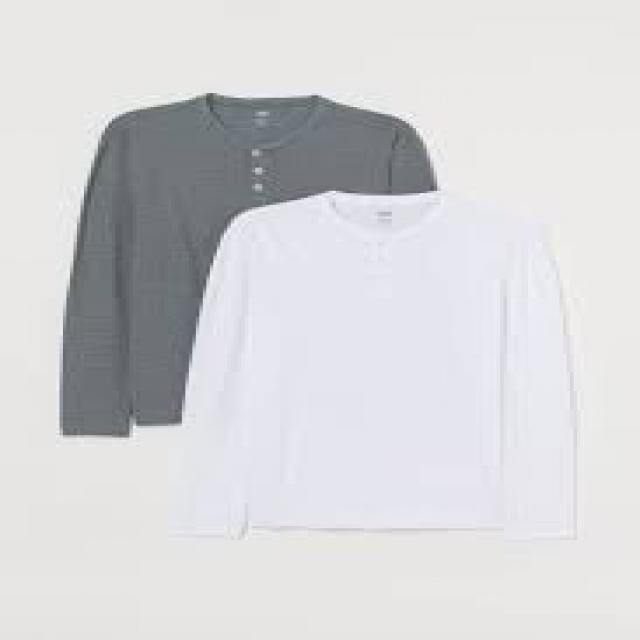plain: (27, 79, 474, 440), (204, 195, 594, 555)
